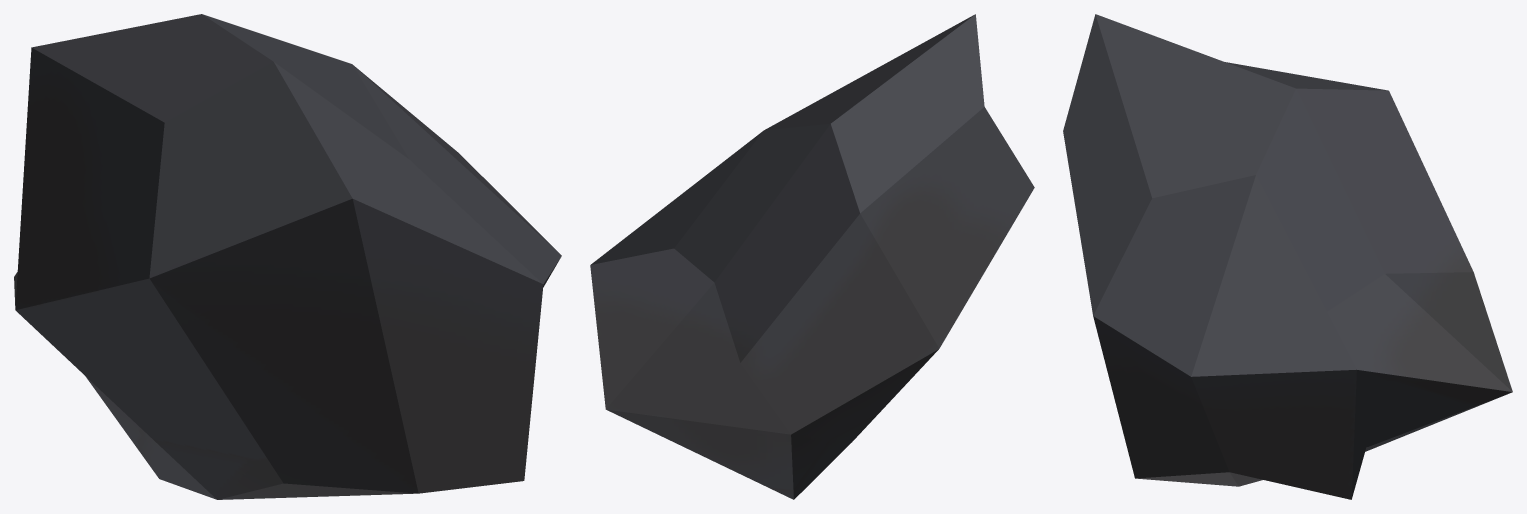
The model's file is roca_2.fbx.
3 views of the same model, side by side, from view 1: azimuth 30°, elevation 25°; view 2: azimuth 150°, elevation 25°; view 3: azimuth 270°, elevation 25° (orthographic). The views are drawn at different scales.
Parts seen in each view (by area): view 1: Plane.008; view 2: Plane.008; view 3: Plane.008.
Part boxes in pixels (left/top/right/bottom): Plane.008: left=14, top=14, right=561, bottom=499; Plane.008: left=590, top=14, right=1034, bottom=499; Plane.008: left=1063, top=14, right=1512, bottom=499.
Size of the model in its own units: 253 by 294 by 291.
